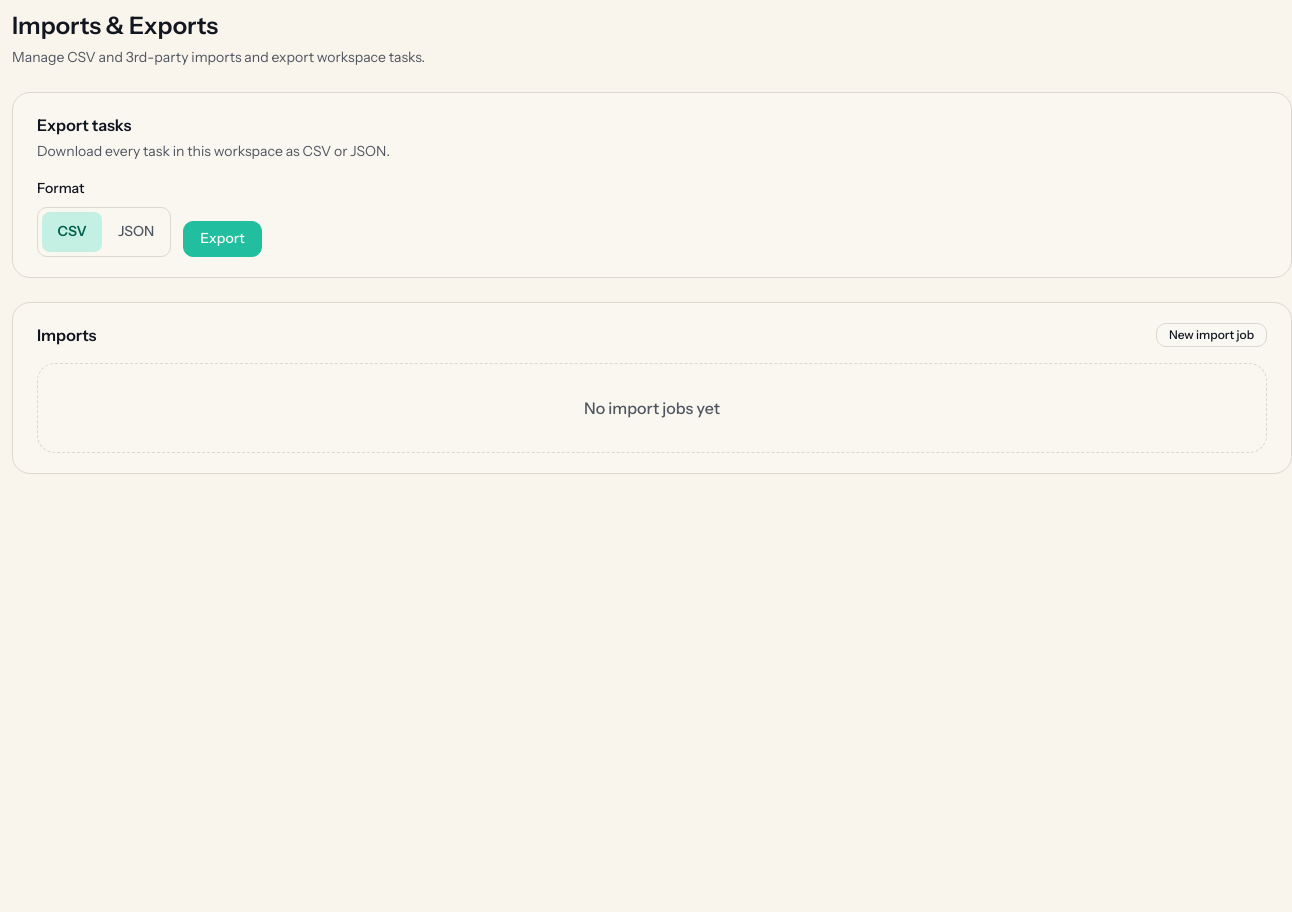
Scenario: import configuration field — credential guidance › warns against credentials before anything is submitted
What coordinates should you click on to do the following:
click the button "New import job"
I would click on:
 (1211, 335)
Its box is top-left (1156, 323), bottom-right (1267, 347).
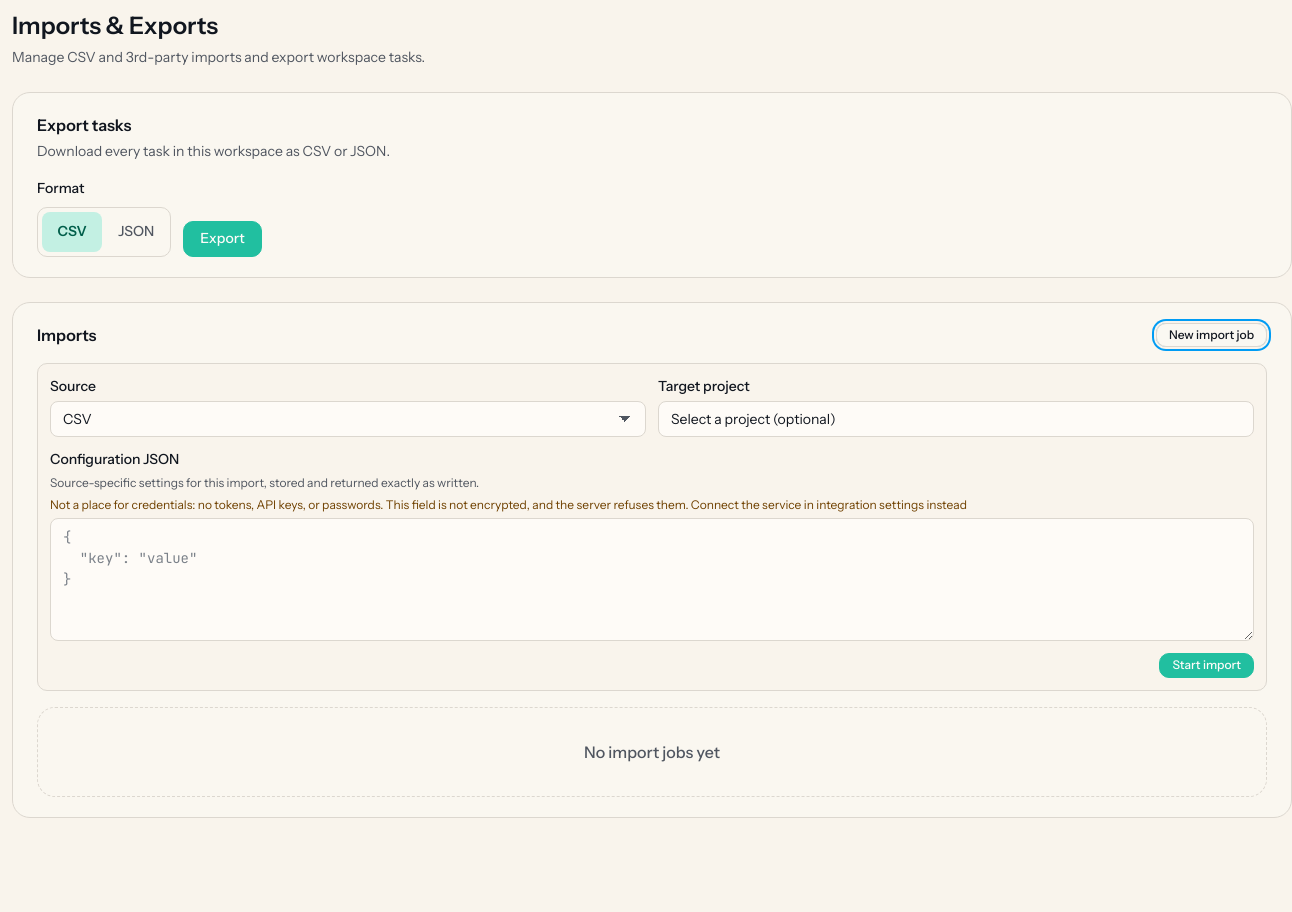
Expected: the text "Not a place for credentials: no tokens, API keys, or passwords. This field is not encrypted, and the server refuses them" is shown, top-left (50, 497), bottom-right (688, 512)
